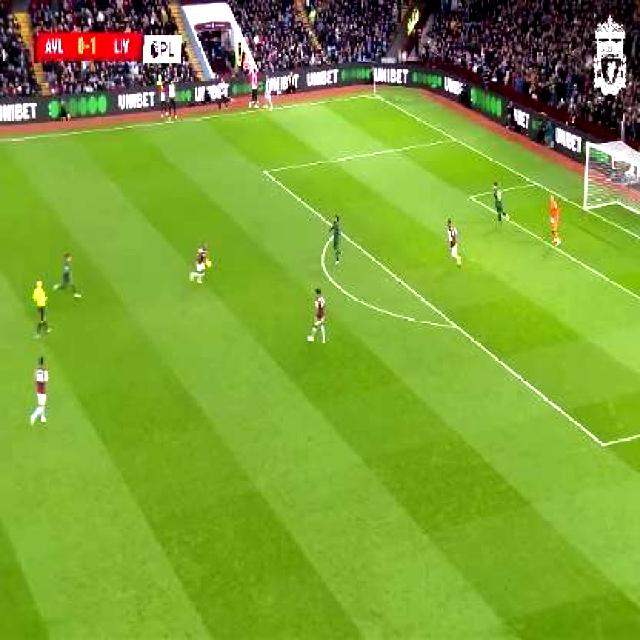bigarea_bottom_inner: (592, 429, 612, 457)
bigarea_top_inner: (257, 160, 272, 180)
bigarea_top_outter: (446, 131, 460, 146)
bottom_arc_area_intersection: (446, 314, 463, 335)
corner: (364, 88, 382, 101)
smallarea_top_inner: (463, 186, 479, 206)
smallarea_top_outter: (529, 174, 543, 191)
